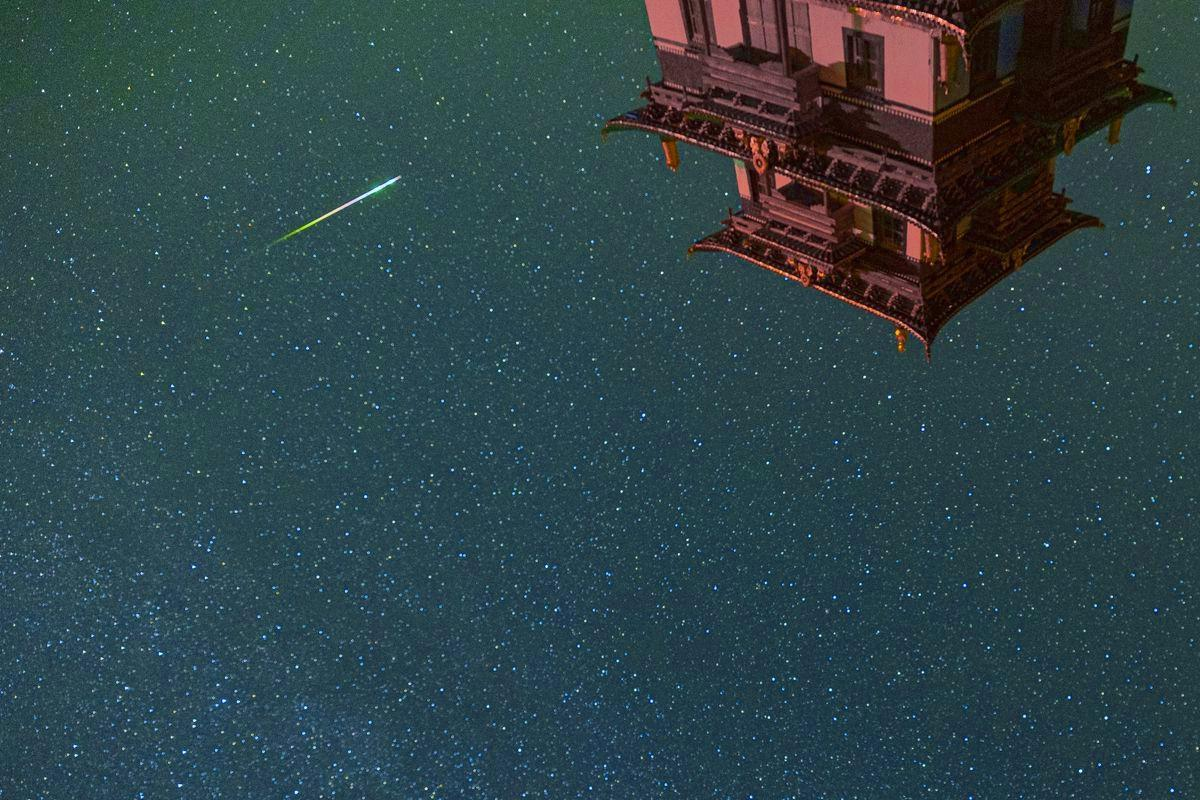meteorite: (238, 165, 433, 259)
